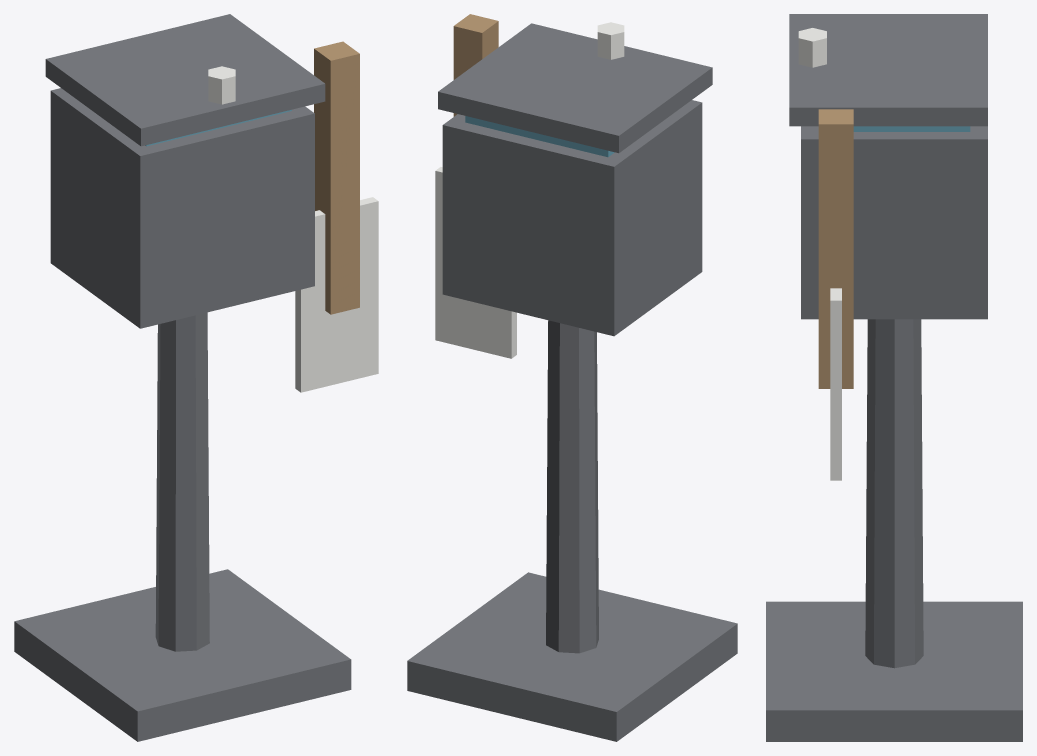
Rendered from golf-course-and-clubhouse-ball-washer-4e7d383a__33476.glb.
3 views of the same model, side by side, from view 1: azimuth 30°, elevation 25°; view 2: azimuth 150°, elevation 25°; view 3: azimuth 270°, elevation 25° (orthographic). The views are drawn at different scales.
Visible parts, largest first — view 1: ball-washer, lid/charcoal, lid/white; view 2: ball-washer, lid/charcoal, lid/white; view 3: ball-washer, lid/charcoal, lid/white.
Boxes of the visible parts, left/top/right/bottom form: ball-washer: left=14, top=41, right=378, bottom=741; lid/charcoal: left=45, top=14, right=325, bottom=146; lid/white: left=208, top=66, right=235, bottom=104; ball-washer: left=407, top=14, right=737, bottom=741; lid/charcoal: left=438, top=23, right=712, bottom=153; lid/white: left=597, top=22, right=624, bottom=59; ball-washer: left=766, top=109, right=1022, bottom=741; lid/charcoal: left=789, top=14, right=987, bottom=126; lid/white: left=798, top=28, right=826, bottom=67.
Bounding box in the file's own units: 0.56 × 1.23 × 0.44.
